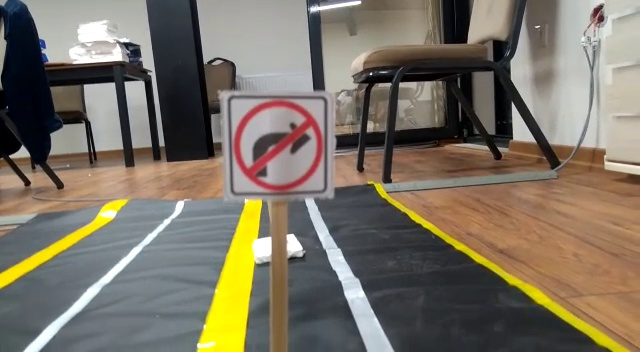saga_donulmez: (227, 96, 331, 193)
